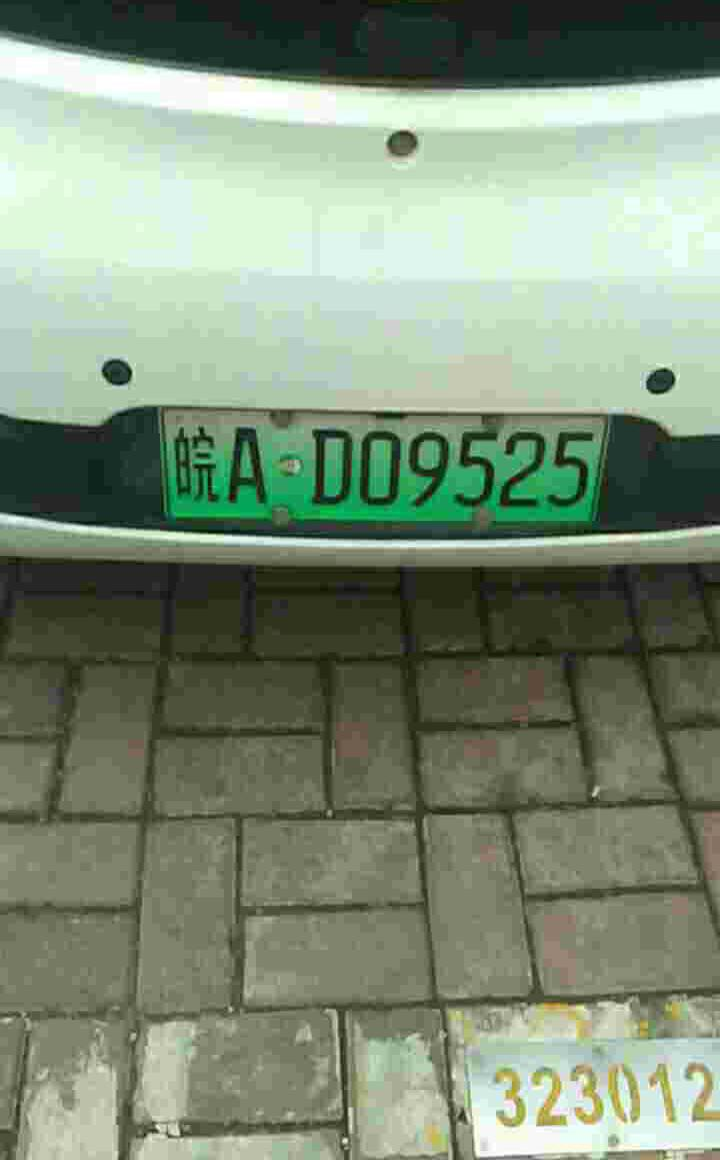car_id: (161, 409, 599, 517)
